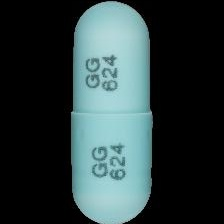0781-2054: (0, 0, 224, 224)
